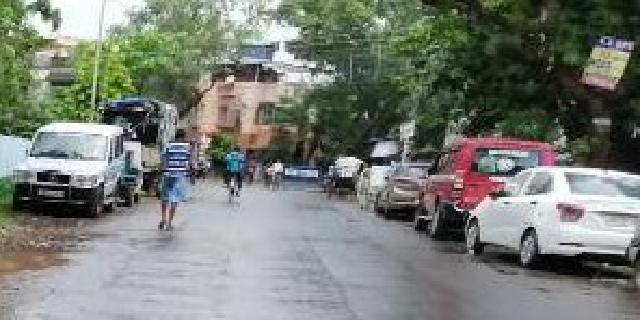Car: (465, 168, 622, 263), (417, 138, 530, 237), (20, 126, 127, 217)
